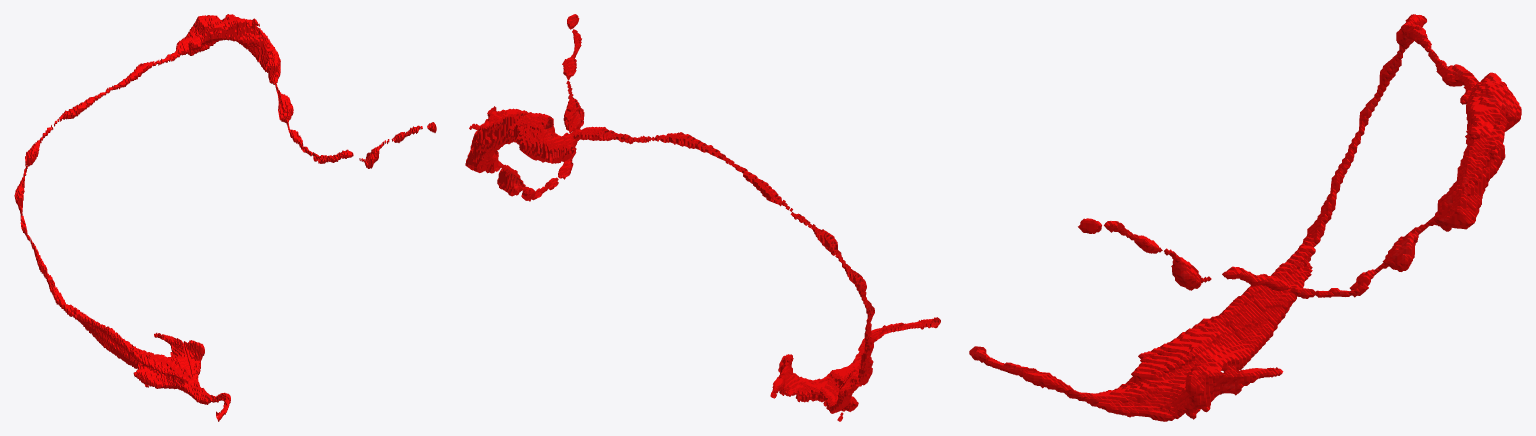
Rendered from SVV_SMDDL.gltf.
3 views of the same model, side by side, from view 1: azimuth 30°, elevation 25°; view 2: azimuth 150°, elevation 25°; view 3: azimuth 270°, elevation 25° (orthographic). The views are drawn at different scales.
Visible parts, largest first — view 1: SMDDL; view 2: SMDDL; view 3: SMDDL.
Part boxes in pixels (left/top/right/bottom): SMDDL: left=14, top=14, right=436, bottom=421; SMDDL: left=465, top=14, right=940, bottom=421; SMDDL: left=969, top=14, right=1521, bottom=421.
Size of the model in its own units: 135900 by 107485 by 125410.
